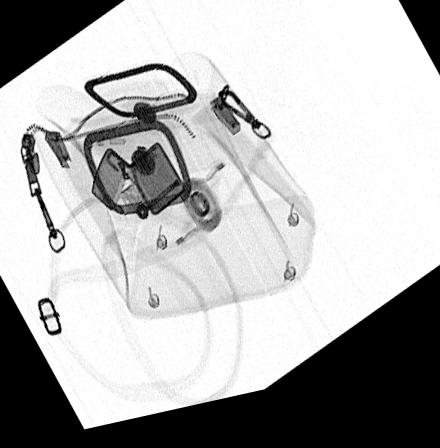Lighter: (90, 147, 186, 227)
